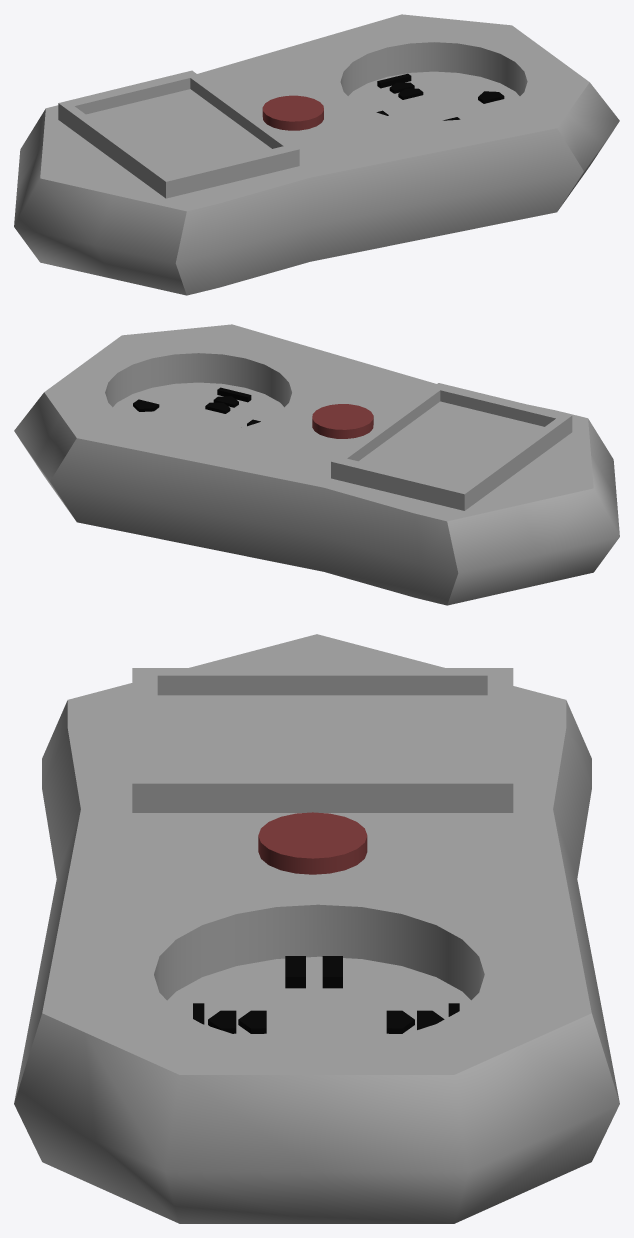
Rendered from game_jam_recorder.fbx.
3 views of the same model, one above another, from view 1: azimuth 30°, elevation 25°; view 2: azimuth 150°, elevation 25°; view 3: azimuth 270°, elevation 25° (orthographic). The views are drawn at different scales.
Parts seen in each view (by area): view 1: recorder, record_button, fast_fword; view 2: recorder, record_button, rewind; view 3: recorder, record_button, rewind, fast_fword.
Boxes of the visible parts, left/top/right/bottom form: recorder: left=14, top=14, right=619, bottom=295; record_button: left=262, top=95, right=323, bottom=130; fast_fword: left=377, top=73, right=423, bottom=99; recorder: left=14, top=324, right=619, bottom=605; record_button: left=312, top=404, right=373, bottom=438; rewind: left=205, top=387, right=251, bottom=413; recorder: left=14, top=634, right=619, bottom=1223; record_button: left=258, top=812, right=367, bottom=874; rewind: left=193, top=1003, right=266, bottom=1033; fast_fword: left=386, top=1003, right=459, bottom=1033.
Bounding box in the file's own units: 2.31 × 0.3957 × 1.22.
